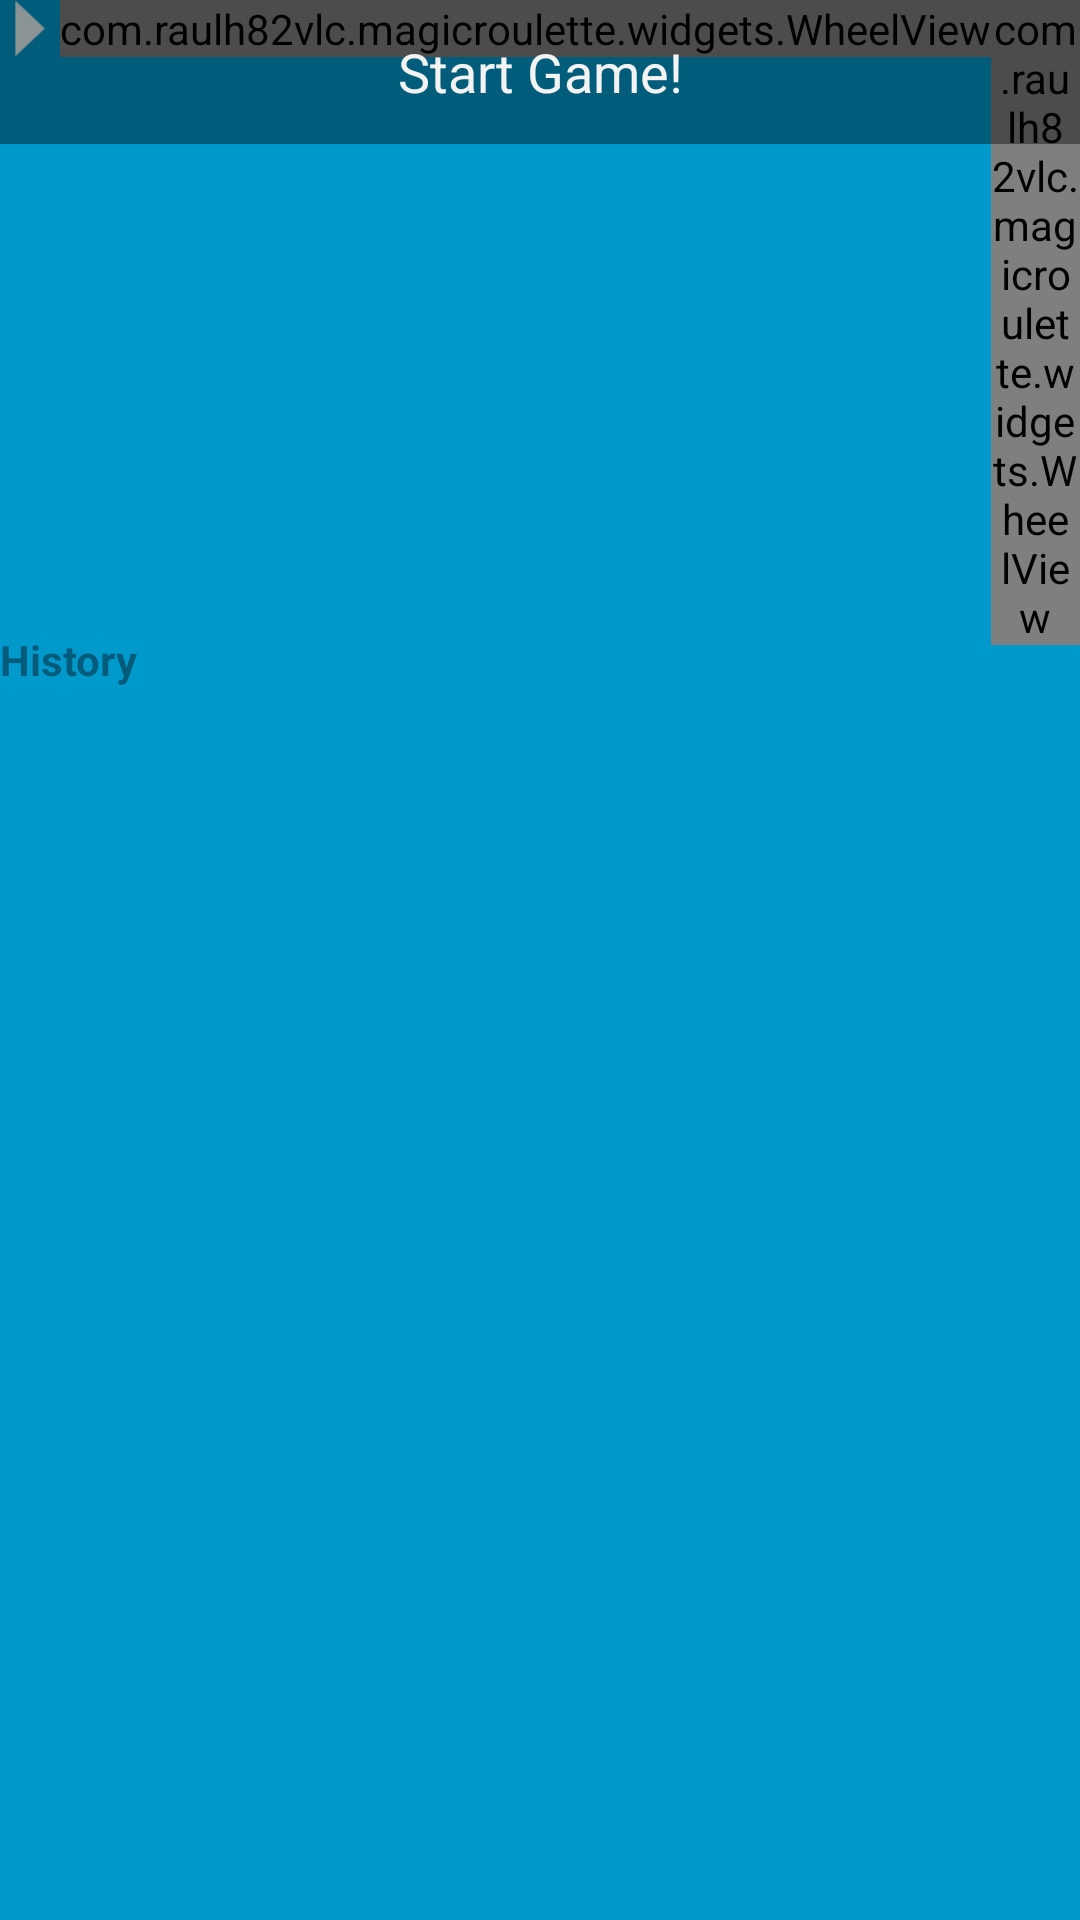

Icons on this 1080×1920 Android screen, each with its box as (x1, y1, x2, y2):
right arrow: (15, 1, 45, 56)
